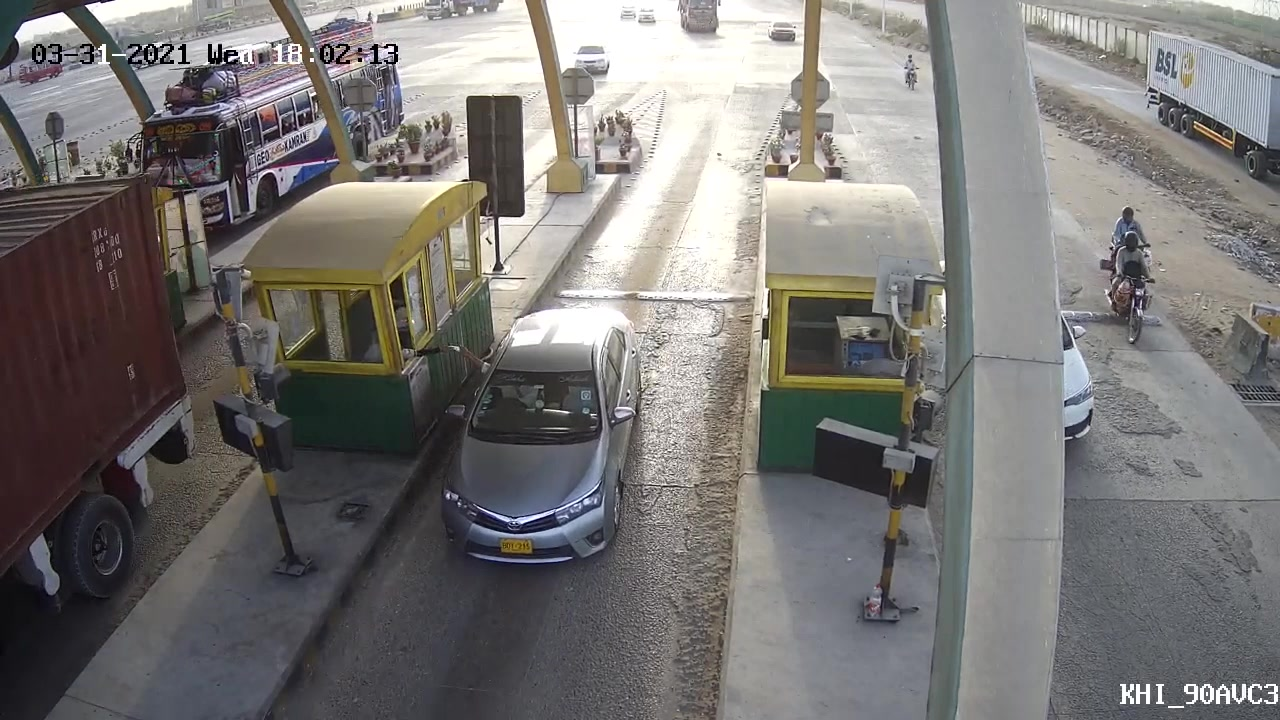F1: (407, 295, 650, 578)
